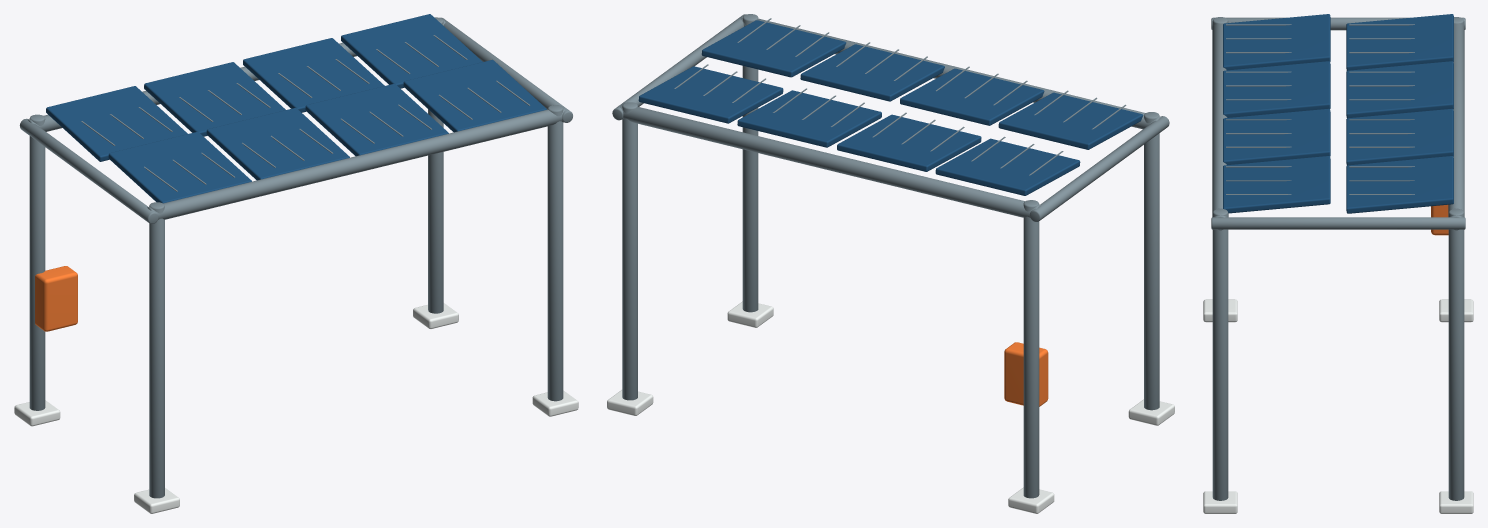
File: SolarShade.fbx
3 views of the same model, side by side, from view 1: azimuth 30°, elevation 25°; view 2: azimuth 150°, elevation 25°; view 3: azimuth 270°, elevation 25° (orthographic). The views are drawn at different scales.
Parts seen in each view (by area): view 1: Shade_CrossBeam, Shade_SolarPanel.004, Shade_SolarPanel.002, Shade_SolarPanel.006, Shade_SolarPanel, Shade_SolarPanel.001, Shade_SolarPanel.005, Shade_SolarPanel.003, Shade_SolarPanel.007, Shade_Post.002, Shade_Post, Shade_Post.001 (+8 smaller); view 2: Shade_CrossBeam.001, Shade_Post.001, Shade_SolarPanel.001, Shade_SolarPanel.003, Shade_SolarPanel.005, Shade_SolarPanel.006, Shade_SolarPanel.007, Shade_SolarPanel, Shade_SolarPanel.002, Shade_SolarPanel.004, Shade_Post.003, Shade_Post (+9 smaller); view 3: Shade_SolarPanel.007, Shade_SolarPanel.006, Shade_SolarPanel.002, Shade_SolarPanel.003, Shade_SolarPanel.001, Shade_SolarPanel, Shade_SolarPanel.005, Shade_SolarPanel.004, Shade_Post.002, Shade_Post.003, Shade_SideBeam.001, Shade_CrossBeam.001 (+7 smaller).
Boxes of the visible parts, x1,y1,x2,y2 form: Shade_CrossBeam: (147,107,565,219); Shade_SolarPanel.004: (305,83,448,156); Shade_SolarPanel.002: (206,108,349,180); Shade_SolarPanel.006: (403,59,546,132); Shade_SolarPanel: (108,131,251,203); Shade_SolarPanel.001: (46,86,187,161); Shade_SolarPanel.005: (243,38,384,112); Shade_SolarPanel.003: (144,62,285,136); Shade_SolarPanel.007: (341,14,482,88); Shade_Post.002: (547,105,563,401); Shade_Post: (149,202,164,498); Shade_Post.001: (29,114,45,410); Shade_CrossBeam.001: (620,104,1040,217); Shade_Post.001: (1023,200,1039,498); Shade_SolarPanel.001: (935,138,1080,195); Shade_SolarPanel.003: (837,114,981,171); Shade_SolarPanel.005: (737,90,881,147); Shade_SolarPanel.006: (701,20,846,77); Shade_SolarPanel.007: (638,66,783,123); Shade_SolarPanel: (998,92,1143,149); Shade_SolarPanel.002: (900,68,1044,125); Shade_SolarPanel.004: (800,44,944,101); Shade_Post.003: (622,102,637,400); Shade_Post: (1144,112,1159,410); Shade_SolarPanel.007: (1346,156,1453,213); Shade_SolarPanel.006: (1223,156,1330,213); Shade_SolarPanel.002: (1223,61,1330,117); Shade_SolarPanel.003: (1346,61,1453,118); Shade_SolarPanel.001: (1346,14,1453,70); Shade_SolarPanel: (1223,14,1330,70); Shade_SolarPanel.005: (1346,108,1453,165); Shade_SolarPanel.004: (1223,108,1330,164); Shade_Post.002: (1212,208,1228,500); Shade_Post.003: (1448,208,1464,500); Shade_SideBeam.001: (1211,217,1465,229); Shade_CrossBeam.001: (1448,23,1464,230).
Size of the model in its own units: 5.38 by 3.71 by 2.98.
